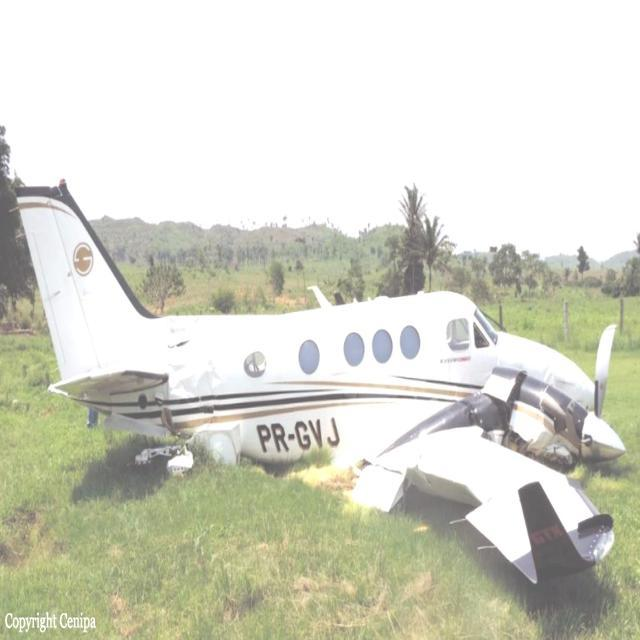dent: (169, 356, 221, 413)
